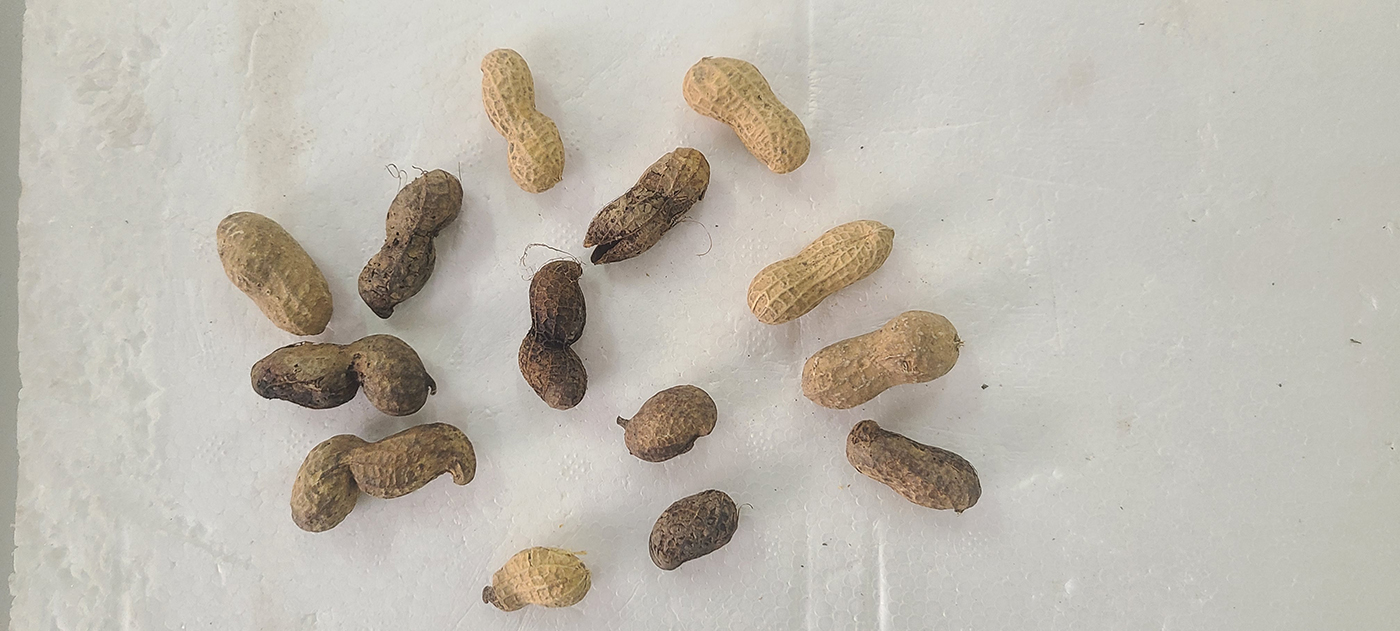h: (800, 312, 962, 410), (680, 55, 811, 174), (748, 219, 895, 325), (217, 210, 333, 337), (480, 46, 563, 192), (484, 546, 590, 613)
l: (289, 422, 476, 534), (357, 169, 465, 320), (584, 147, 711, 266), (250, 333, 431, 415), (845, 418, 982, 512), (518, 260, 588, 409), (626, 383, 719, 463), (650, 489, 739, 572)
